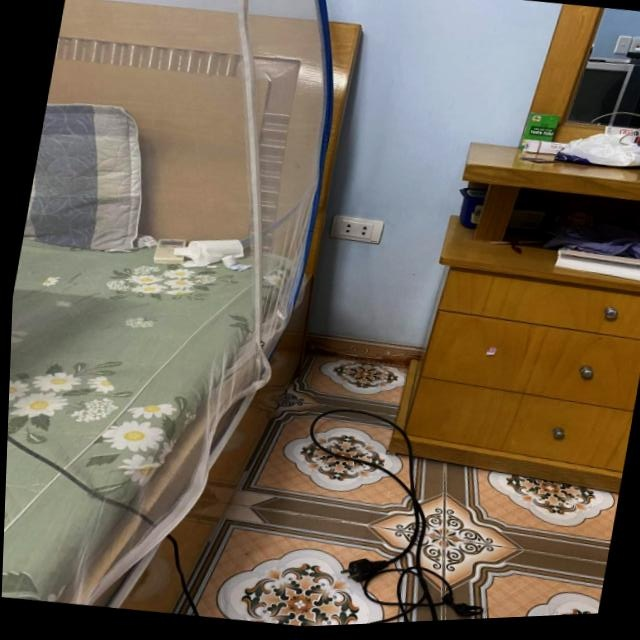outlet: (328, 213, 384, 248)
